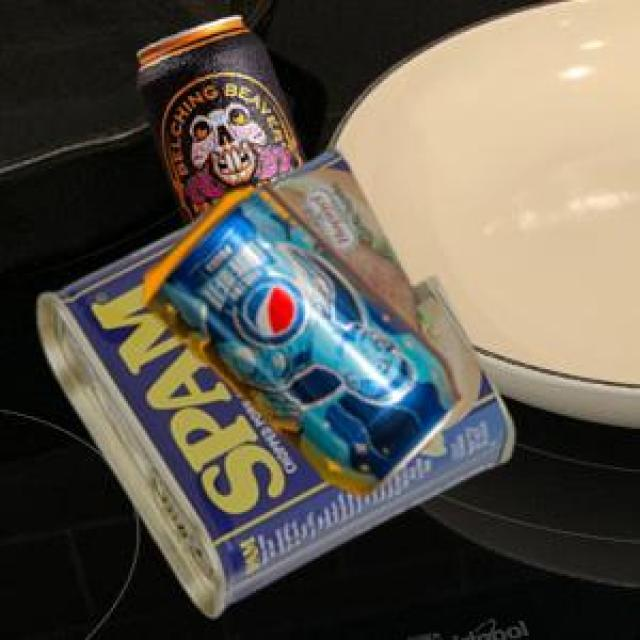logam: (35, 146, 511, 613), (142, 180, 458, 492), (133, 14, 304, 223)
